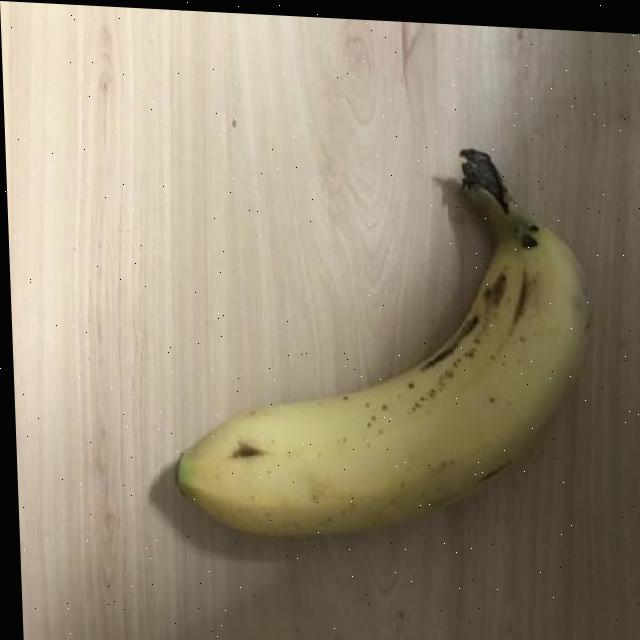banana: (148, 126, 599, 562)
